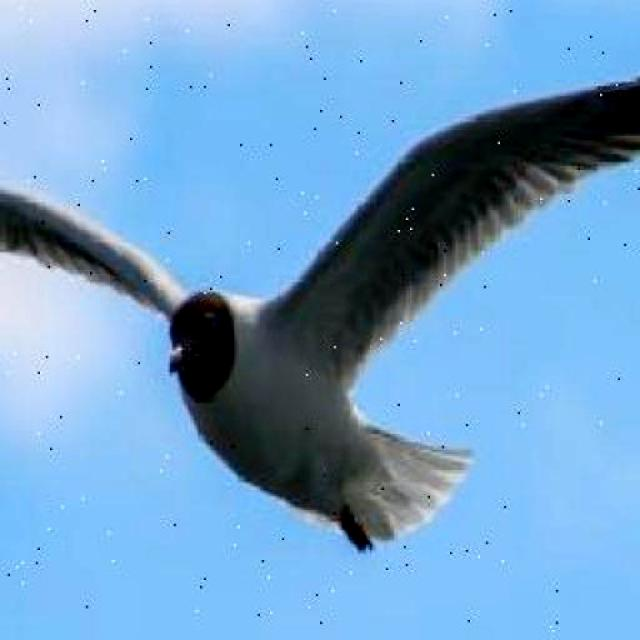airplane: (0, 29, 640, 555)
